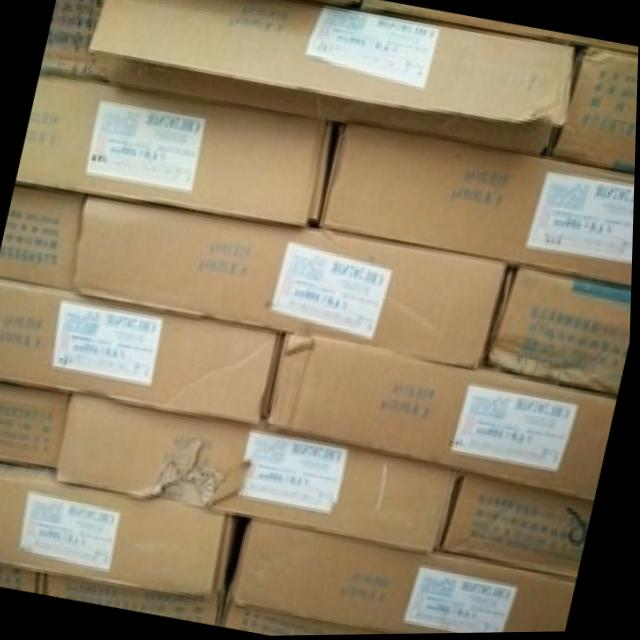box: (90, 0, 574, 157), (75, 196, 509, 370), (59, 394, 466, 554), (267, 332, 619, 502), (321, 120, 636, 287), (17, 74, 333, 225), (0, 279, 286, 426), (236, 516, 581, 635), (0, 463, 239, 600), (490, 265, 633, 399), (445, 475, 597, 579), (553, 48, 638, 171), (46, 574, 226, 627), (0, 186, 86, 292), (0, 383, 74, 465), (39, 0, 109, 84), (227, 605, 400, 637), (0, 567, 46, 595)
